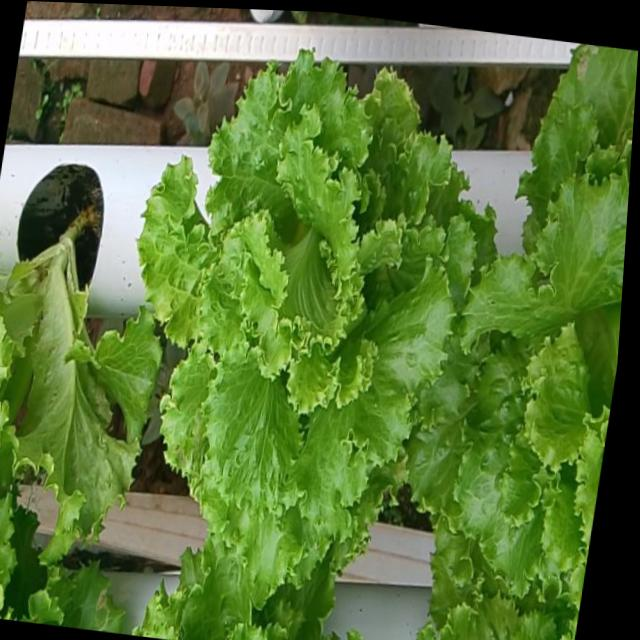Mature: (133, 29, 471, 571), (402, 145, 631, 580)
